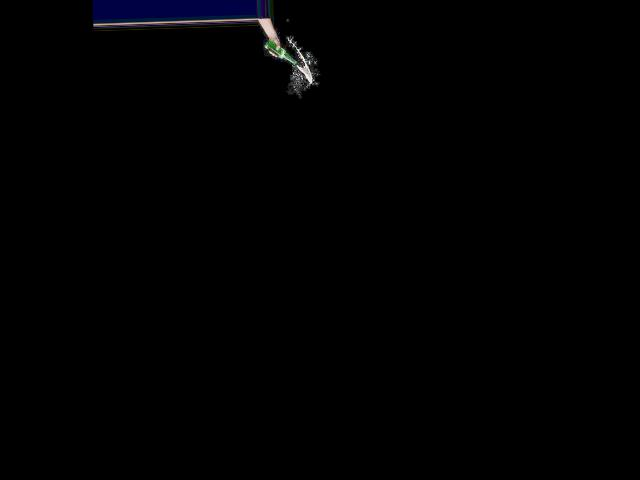beer: (263, 39, 296, 65)
